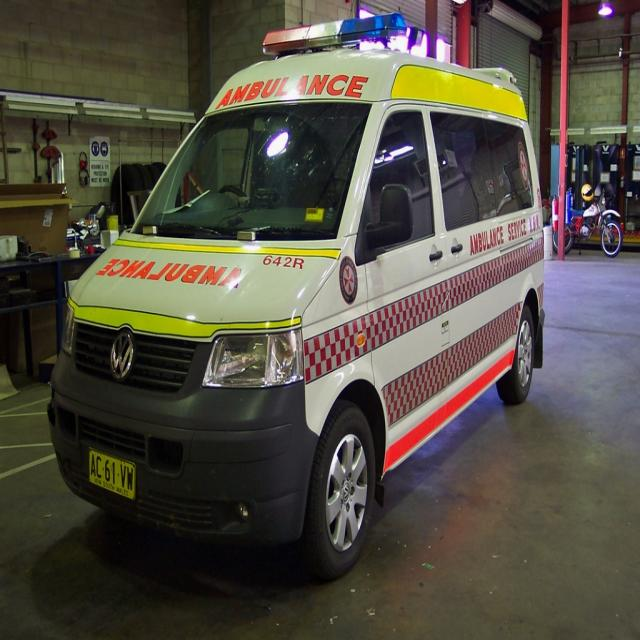Ambulance: (46, 10, 546, 569)
